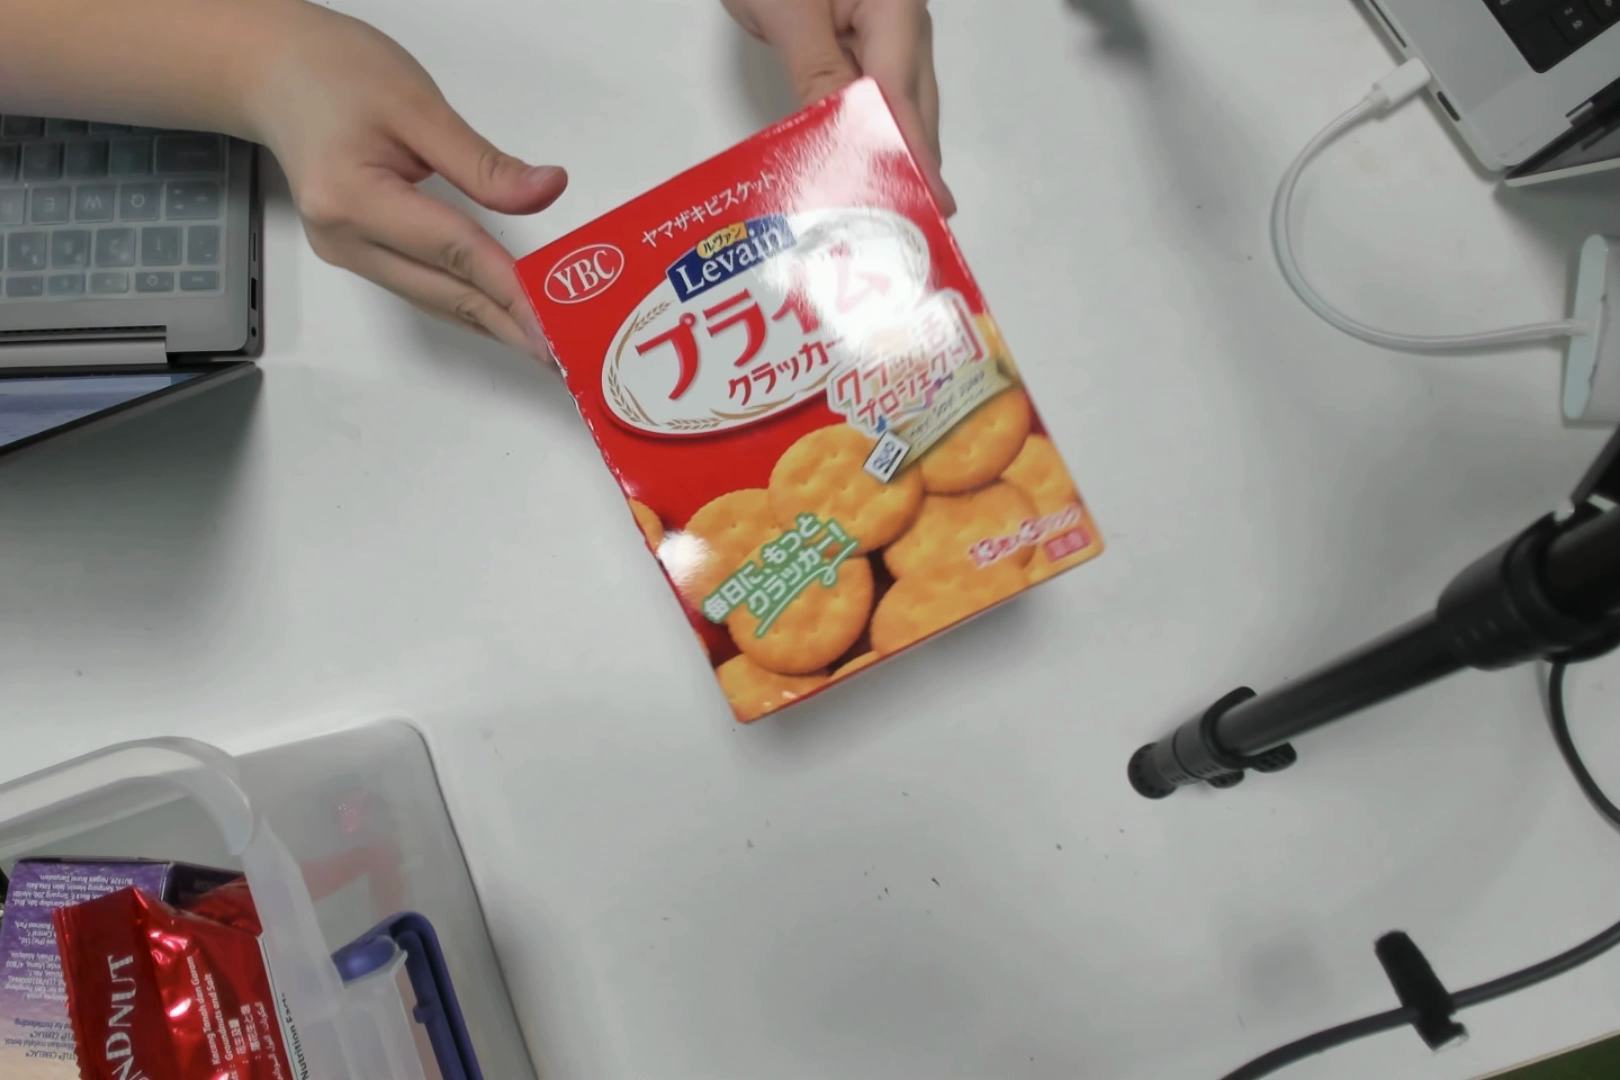c: (542, 202, 1096, 646)
